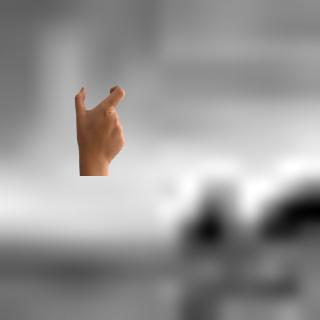HATE: (67, 79, 133, 178)
